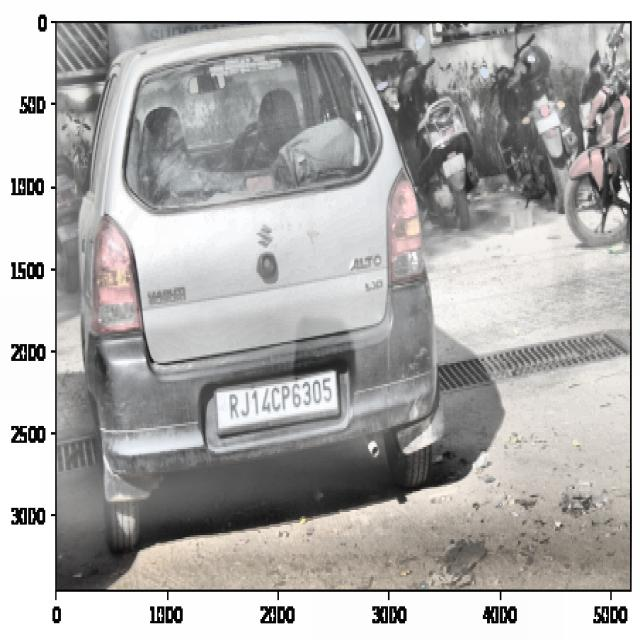license_plate: (222, 368, 339, 423)
